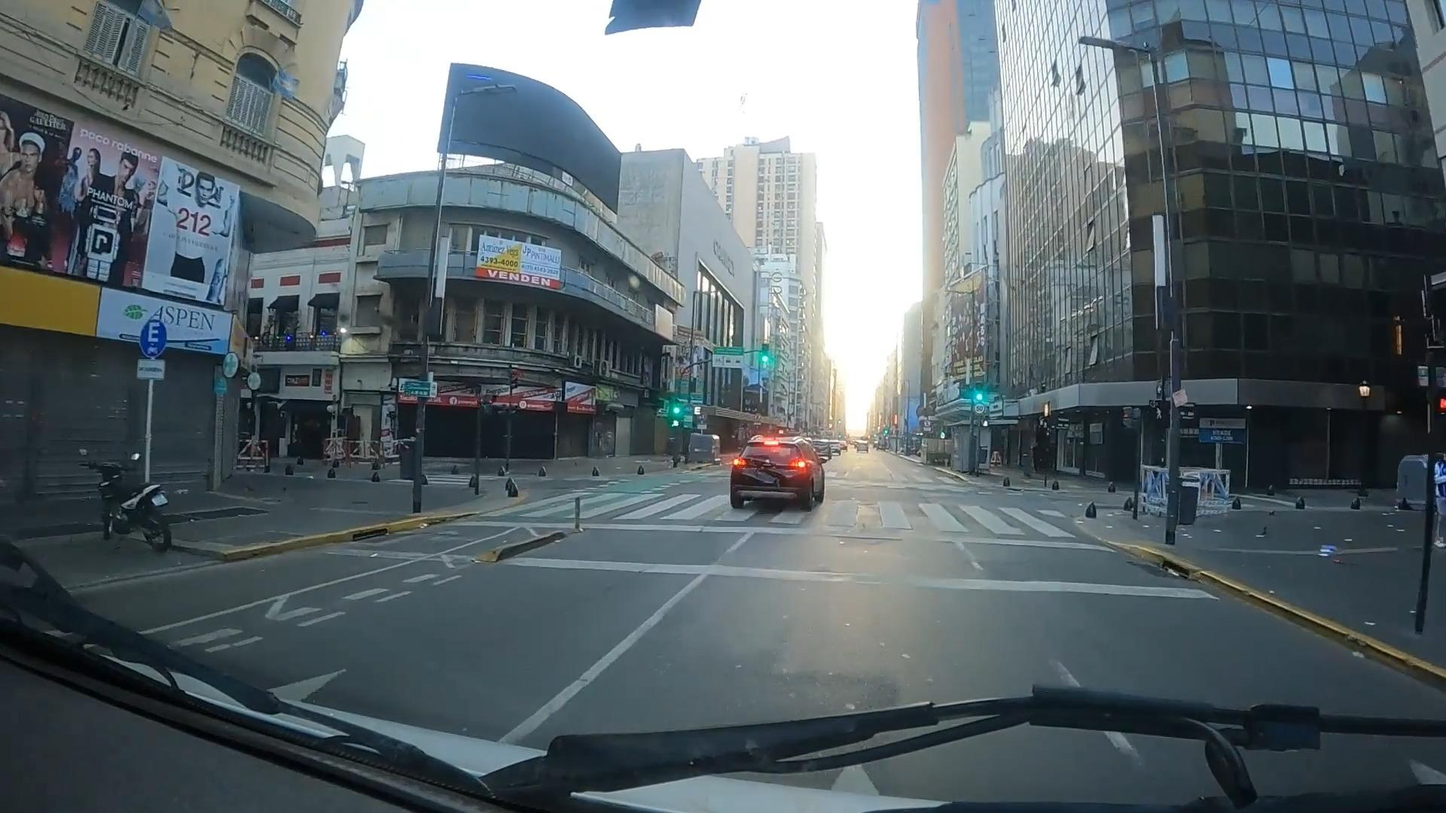dry: (120, 446, 1445, 730)
